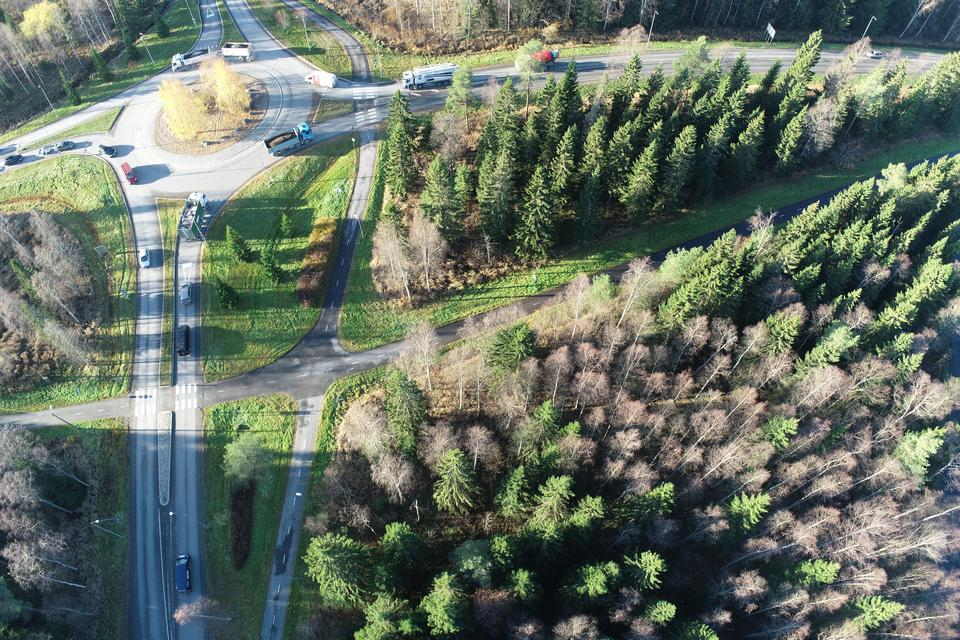intersection: (95, 364, 227, 453), (337, 59, 409, 157)
roundabout: (83, 19, 324, 241)
